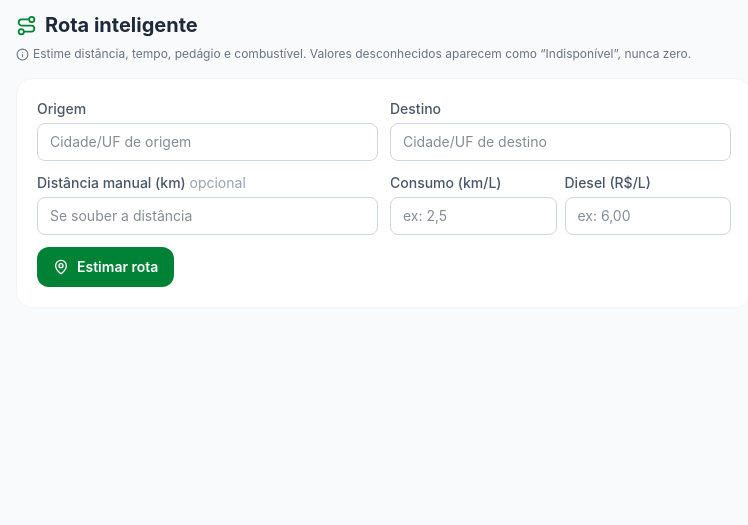
Test: RotaInteligente › estimativa por provedor mostra distância, fonte e combustível
Type "A" into the field labelled "Origem" at (208, 142), box [37,123,378,161]
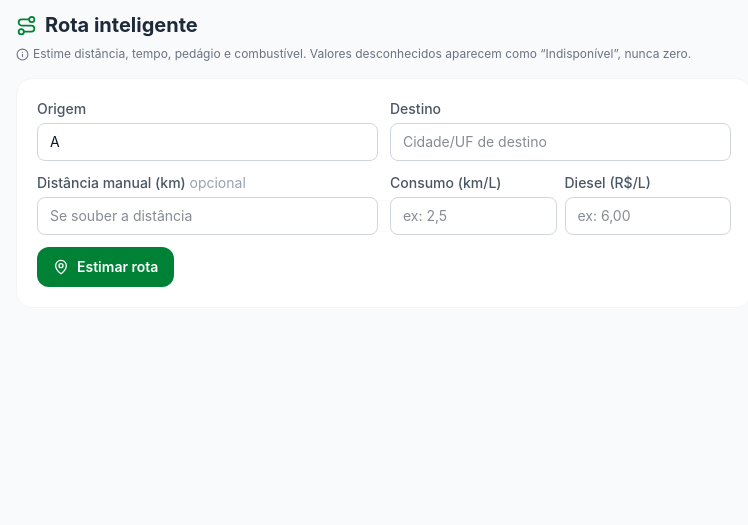
Type "B" into the field labelled "Destino" at (560, 142), box [390,123,731,161]
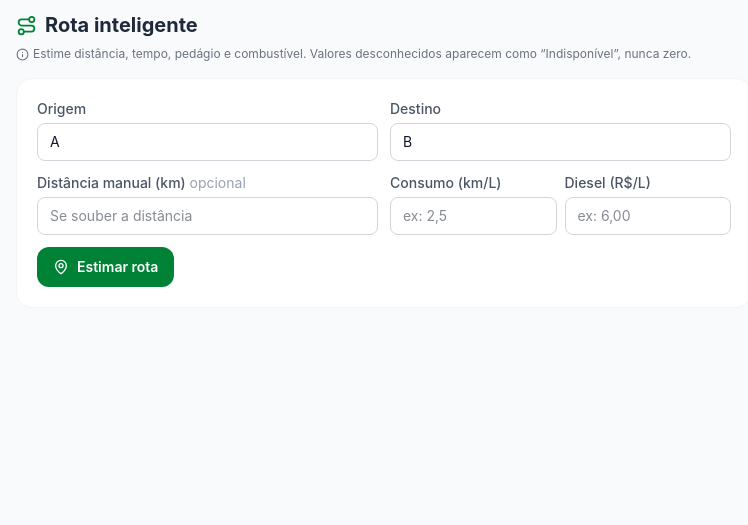
Click the button "Estimar rota" at (106, 267), box [37,247,174,287]
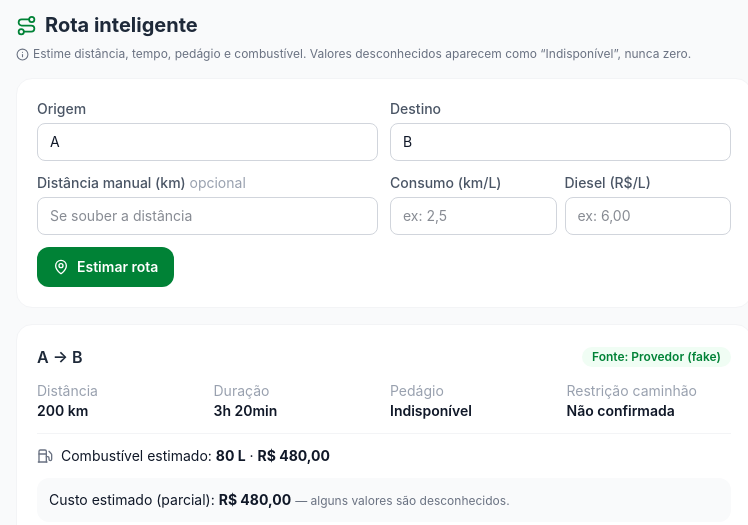
Result: the text "200 km" is shown at [37,402,88,419]
Result: the text "Fonte: Provedor (fake)" is shown at [582,347,731,367]
Result: the text "80 L" is shown at [216,447,246,464]
